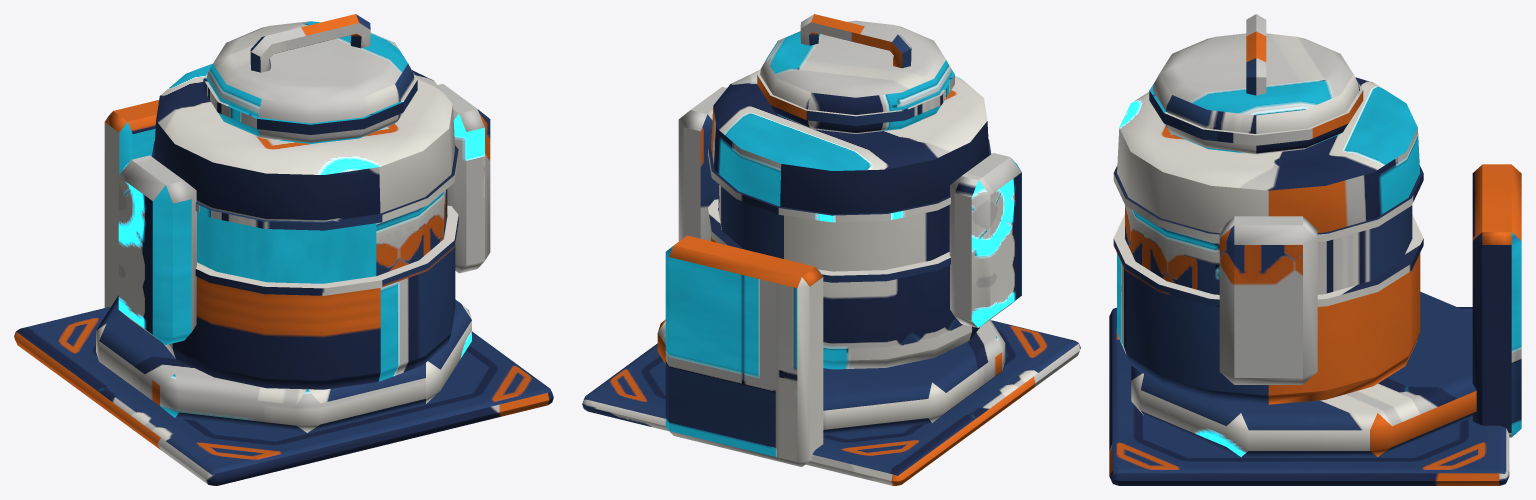
The model's file is R4X_Battery_LOD1.fbx.
3 renders of one model, left to right at view 1: azimuth 30°, elevation 25°; view 2: azimuth 150°, elevation 25°; view 3: azimuth 270°, elevation 25°, orthographic. The views are drawn at different scales.
Parts seen in each view (by area): view 1: R4X_Battery_LOD1; view 2: R4X_Battery_LOD1; view 3: R4X_Battery_LOD1.
Part boxes in pixels (box(x1,y1,x2,y2)): R4X_Battery_LOD1: box(14, 14, 553, 485); R4X_Battery_LOD1: box(582, 14, 1080, 485); R4X_Battery_LOD1: box(1109, 14, 1521, 485).
Size of the model in its own units: 0.49 by 0.4995 by 0.505.
